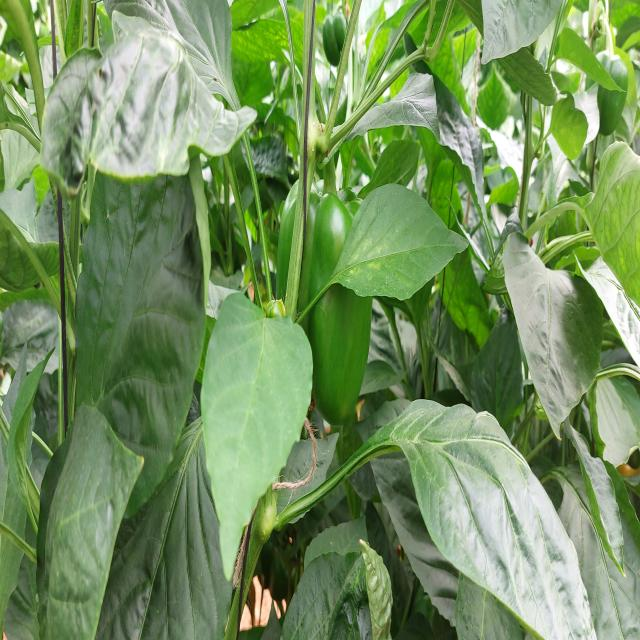Green--Not-ready-to-harvest: (276, 163, 379, 431)
